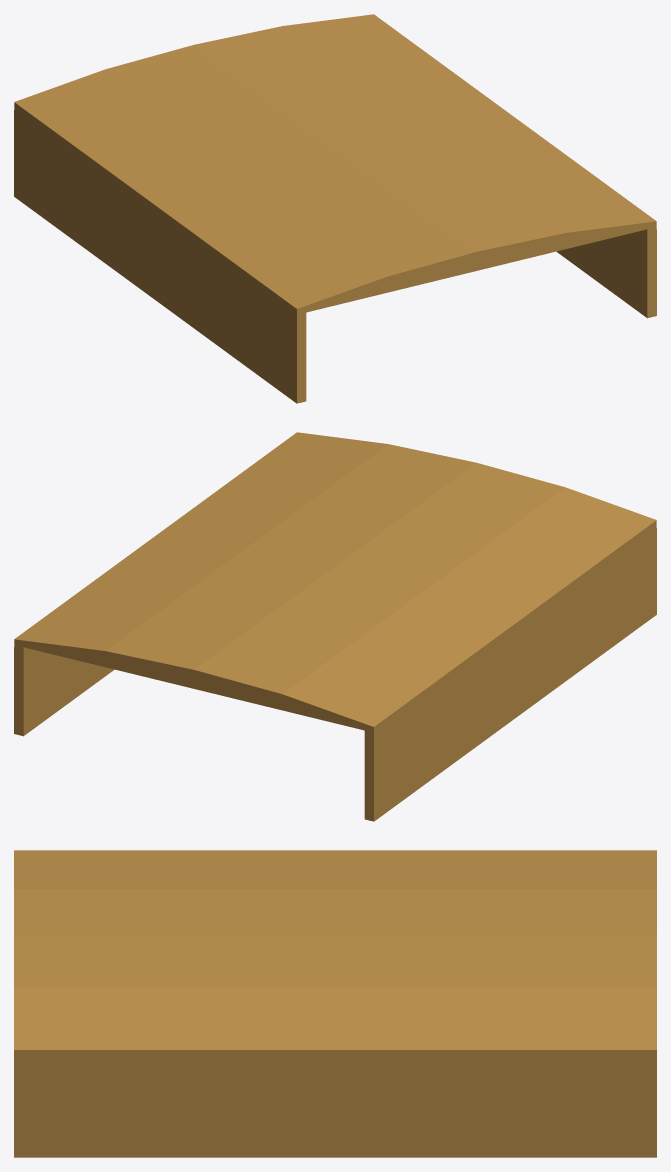
File: Itr_Bed_Single_Blanket_10.FBX
3 views of the same model, one above another, from view 1: azimuth 30°, elevation 25°; view 2: azimuth 150°, elevation 25°; view 3: azimuth 270°, elevation 25° (orthographic). The views are drawn at different scales.
Visible parts, largest first — view 1: Itr_Bed_Single_Blanket_10; view 2: Itr_Bed_Single_Blanket_10; view 3: Itr_Bed_Single_Blanket_10.
Part boxes in pixels (left/top/right/bottom): Itr_Bed_Single_Blanket_10: left=14, top=14, right=656, bottom=403; Itr_Bed_Single_Blanket_10: left=14, top=432, right=656, bottom=821; Itr_Bed_Single_Blanket_10: left=14, top=850, right=656, bottom=1157.
Size of the model in its own units: 47.68 by 13.67 by 64.86.
